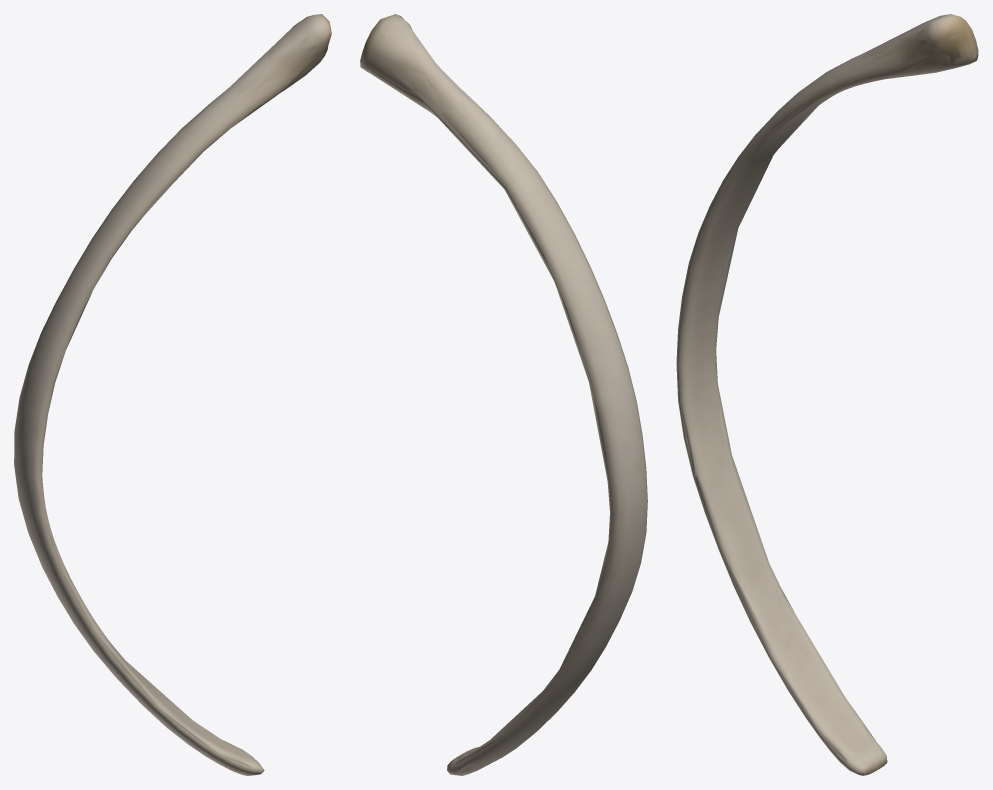
The model's file is Rib R07.fbx.
The picture shows the model from 3 angles, left to right: view 1: azimuth 30°, elevation 25°; view 2: azimuth 150°, elevation 25°; view 3: azimuth 330°, elevation 25°; orthographic projection. The views are drawn at different scales.
Visible parts, largest first — view 1: Rib R07, Rib R07 low, Rib R07 high; view 2: Rib R07, Rib R07 low, Rib R07 high; view 3: Rib R07 high, Rib R07, Rib R07 low.
Part boxes in pixels (x1,y1,x2,y2): Rib R07: (14,14,331,775); Rib R07 low: (22,17,331,775); Rib R07 high: (15,19,319,774); Rib R07: (360,14,647,775); Rib R07 low: (361,22,637,773); Rib R07 high: (366,32,643,774); Rib R07 high: (681,29,976,771); Rib R07: (676,14,978,775); Rib R07 low: (676,16,977,774).
Size of the model in its own units: 7.19 by 17.28 by 2.26.
Materials: 1 (1 with a texture image).
